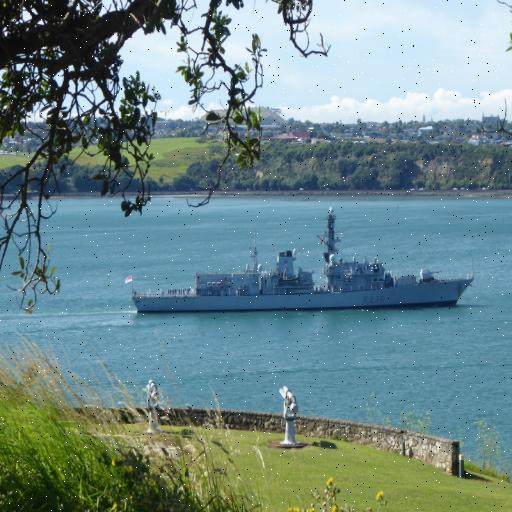Fragata: (128, 207, 481, 319)
